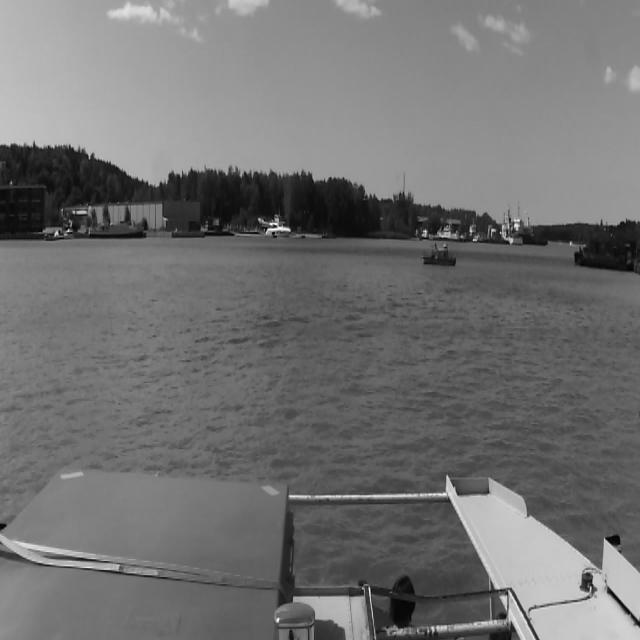ship: (512, 209, 552, 251), (430, 222, 474, 245), (501, 205, 524, 249), (419, 242, 456, 268), (266, 222, 292, 238)
